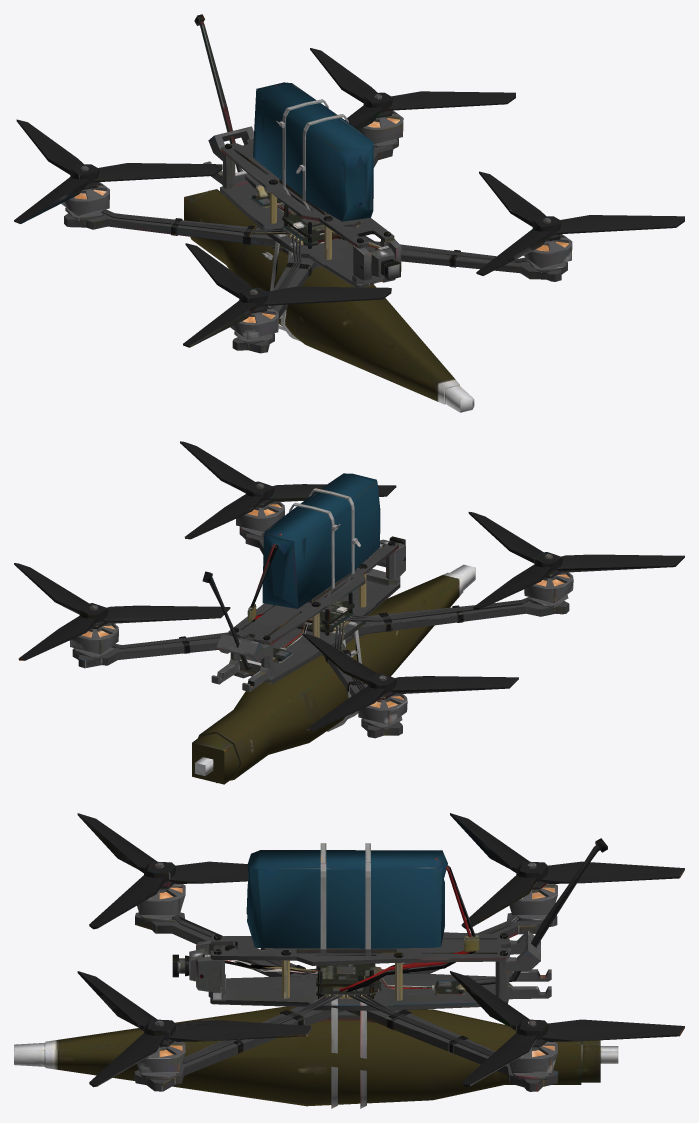
Rendered from fpv.glb.
3 views of the same model, one above another, from view 1: azimuth 30°, elevation 25°; view 2: azimuth 150°, elevation 25°; view 3: azimuth 270°, elevation 25° (orthographic). The views are drawn at different scales.
Visible parts, largest first — view 1: Object_2; view 2: Object_2; view 3: Object_2.
Boxes of the visible parts, box(x1,y1,x2,y2) form: Object_2: box(14, 14, 684, 412); Object_2: box(14, 441, 684, 784); Object_2: box(14, 813, 684, 1108).
Bounding box in the file's own units: 0.3077 × 0.1378 × 0.3215.
1 material, 1 textured.
